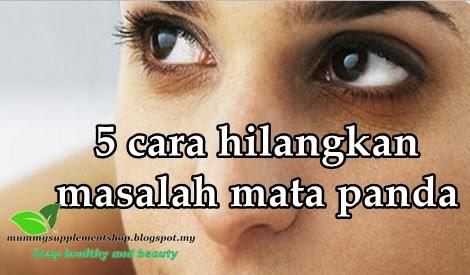Eyebags: (276, 35, 447, 133), (132, 66, 219, 105)
